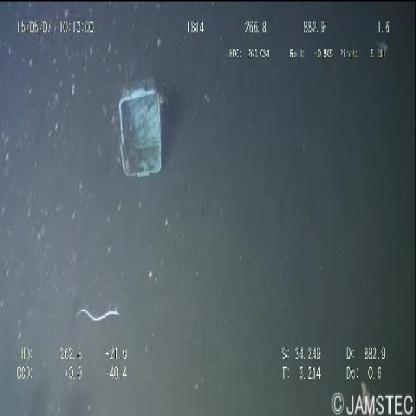Rác: (110, 86, 167, 179)
